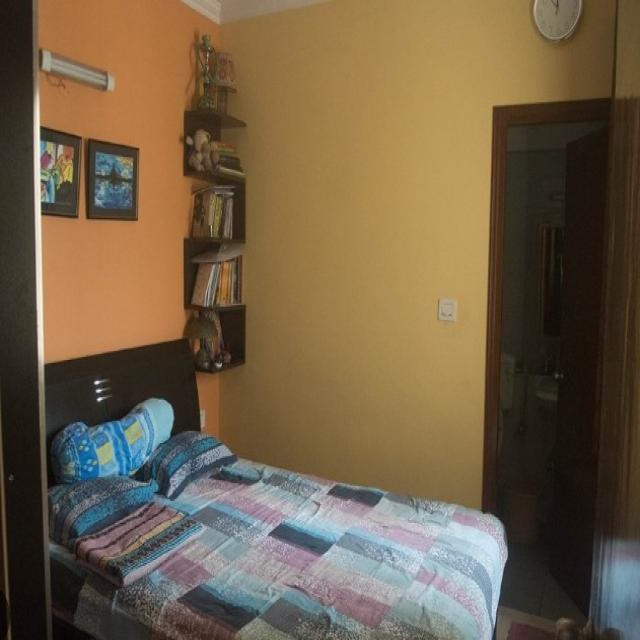Non_Damaged: (35, 0, 597, 622)
